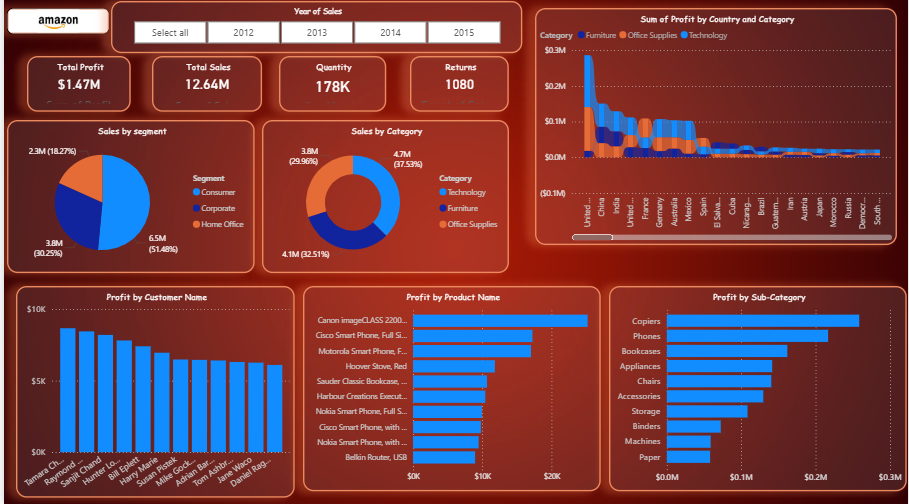

The page's visual inventory and layout, read from the dashboard file:
{"tool":"powerbi","page":{"name":"Page 2","canvas":[1280,720],"ordinal":1},"visuals":[{"type":"ribbonChart","fields":{"Category":["Orders.Country"],"Y":["Sum(Orders.Profit)"],"Series":["Orders.Category"]},"box":[752.6,15.6,513.1,335.9],"z":0},{"type":"image","box":[4,16,145,37],"z":1000},{"type":"slicer","title":"Year of Sales","fields":{"Values":["Orders.Order Date.Variation.Date Hierarchy.Year"]},"box":[151.7,5.7,582.5,73.7],"z":2000},{"type":"card","title":"Total Profit","fields":{"Values":["Sum(Orders.Profit)"]},"box":[32.6,83.6,147.4,79.4],"z":3000},{"type":"card","title":"Total Sales","fields":{"Values":["Sum(Orders.Sales)"]},"box":[209.8,83.6,155.9,79.4],"z":4000},{"type":"card","title":"Quantity","fields":{"Values":["Sum(Orders.Quantity)"]},"box":[389.8,83.6,151.7,79.4],"z":5000},{"type":"card","title":" Returns","fields":{"Values":["CountNonNull(Returns.Column1)"]},"box":[575.4,83.6,140.3,79.4],"z":6000},{"type":"columnChart","title":" Profit by Customer Name","fields":{"Category":["Orders.Customer Name"],"Y":["Sum(Orders.Profit)"]},"box":[17,409.6,395.4,300.5],"z":7000},{"type":"barChart","title":"Profit by Product Name","fields":{"Category":["Orders.Product Name"],"Y":["Sum(Orders.Profit)"]},"box":[423.8,409.6,422.4,290.6],"z":8000},{"type":"barChart","title":" Profit by Sub-Category","fields":{"Y":["Sum(Orders.Profit)"],"Category":["Orders.Sub-Category"]},"box":[857.5,409.6,422.4,290.6],"z":9000},{"type":"pieChart","title":" Sales by segment","fields":{"Y":["Sum(Orders.Sales)"],"Category":["Orders.Segment"]},"box":[4.3,174.3,351.5,216.9],"z":10000},{"type":"donutChart","title":"Sales by Category","fields":{"Y":["Sum(Orders.Sales)"],"Category":["Orders.Category"]},"box":[365.7,174.3,350.1,216.9],"z":11000}]}

Visuals, with their boxes in screenshot pixels (x1, y1, x2, y2), scaled from the page's 1280x720 canvas onto the 909x504 screenshot:
ribbonChart - Orders.Country x Sum(Orders.Profit): [x1=534, y1=11, x2=899, y2=246]
image: [x1=3, y1=11, x2=106, y2=37]
"Year of Sales" slicer: [x1=108, y1=4, x2=521, y2=56]
"Total Profit" card: [x1=23, y1=59, x2=128, y2=114]
"Total Sales" card: [x1=149, y1=59, x2=260, y2=114]
"Quantity" card: [x1=277, y1=59, x2=385, y2=114]
" Returns" card: [x1=409, y1=59, x2=508, y2=114]
" Profit by Customer Name" columnChart: [x1=12, y1=287, x2=293, y2=497]
"Profit by Product Name" barChart: [x1=301, y1=287, x2=601, y2=490]
" Profit by Sub-Category" barChart: [x1=609, y1=287, x2=908, y2=490]
" Sales by segment" pieChart: [x1=3, y1=122, x2=253, y2=274]
"Sales by Category" donutChart: [x1=260, y1=122, x2=508, y2=274]
